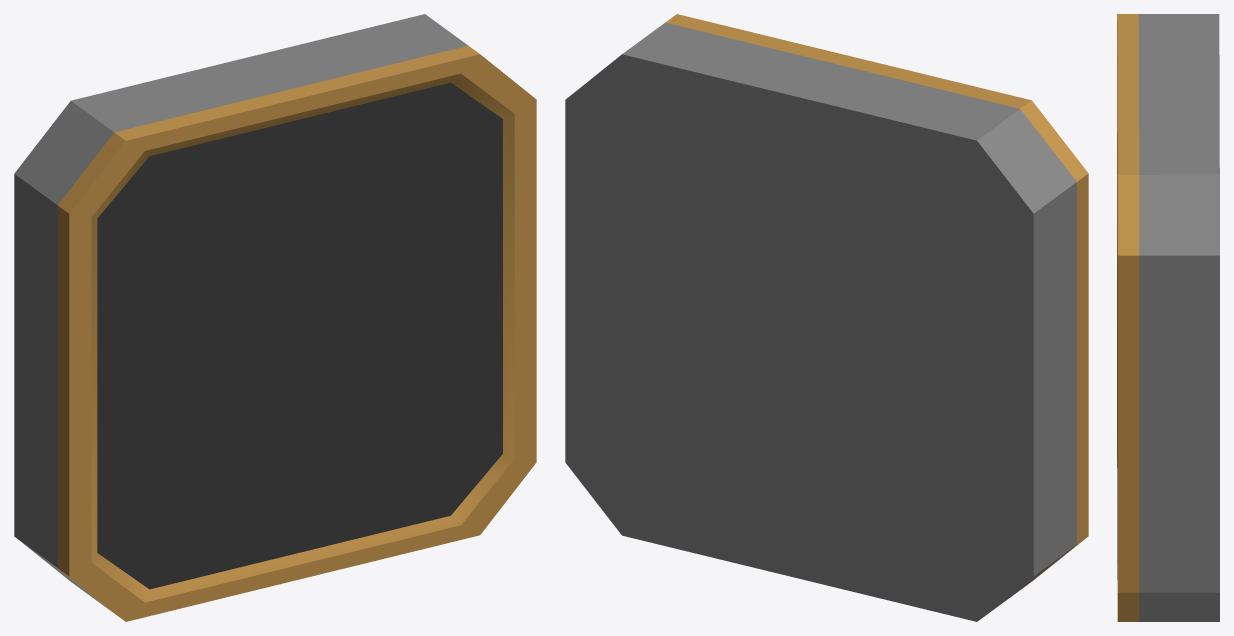
Rendered from screen_square.glb.
The picture shows the model from 3 angles, left to right: view 1: azimuth 30°, elevation 25°; view 2: azimuth 150°, elevation 25°; view 3: azimuth 270°, elevation 25°; orthographic projection. The views are drawn at different scales.
Parts seen in each view (by area): view 1: Props_Computer.001; view 2: Props_Computer.001; view 3: Props_Computer.001.
Part boxes in pixels (left/top/right/bottom): Props_Computer.001: left=14, top=14, right=536, bottom=621; Props_Computer.001: left=565, top=14, right=1088, bottom=621; Props_Computer.001: left=1117, top=14, right=1219, bottom=621.
Bounding box in the file's own units: 0.5977 × 0.5873 × 0.1224.
